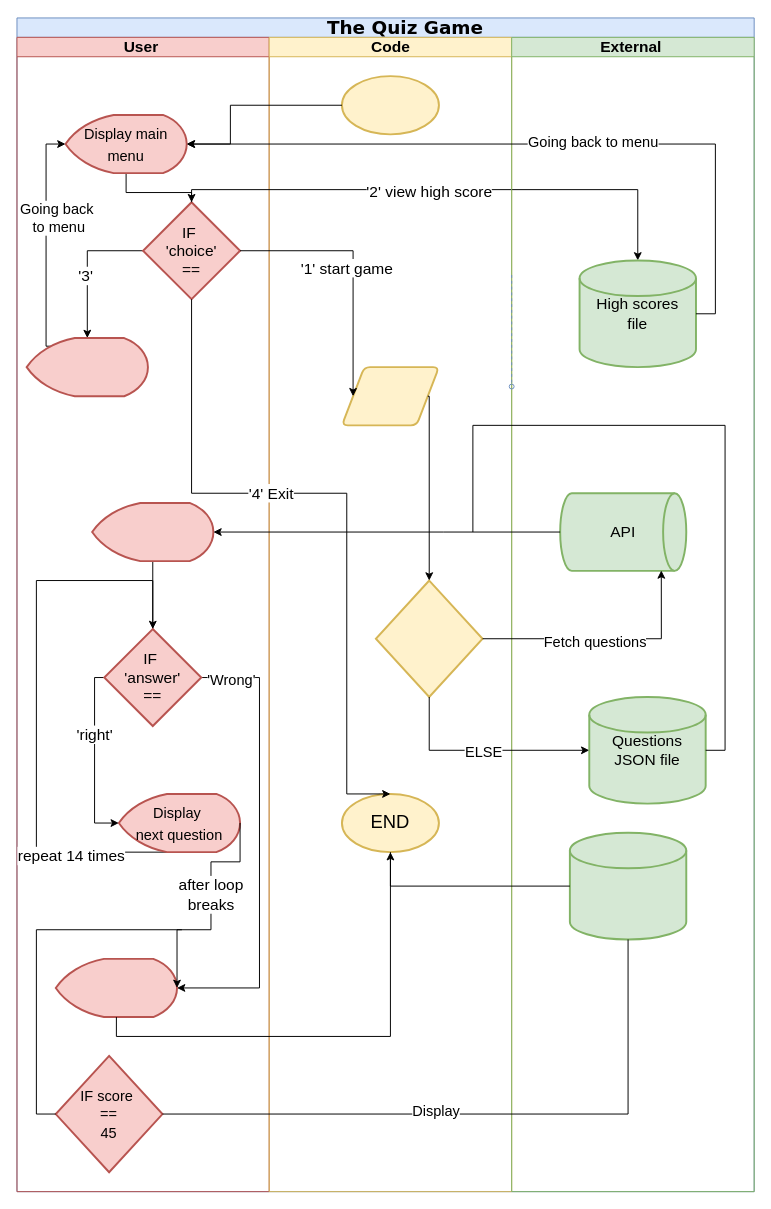
Image size: 771x1209. Some labels were removed from this diagram. Each missing label, with the centre of its shape:
"Congrats file" goes at point 627,885.
"Display 1st question" goes at point 152,531.
"Display instructions" goes at point 86,367.
"Display message" goes at point 116,987.
"IF API responds" goes at point 428,638.
"Main game logic" goes at point 389,396.
"START" goes at point 389,105.
